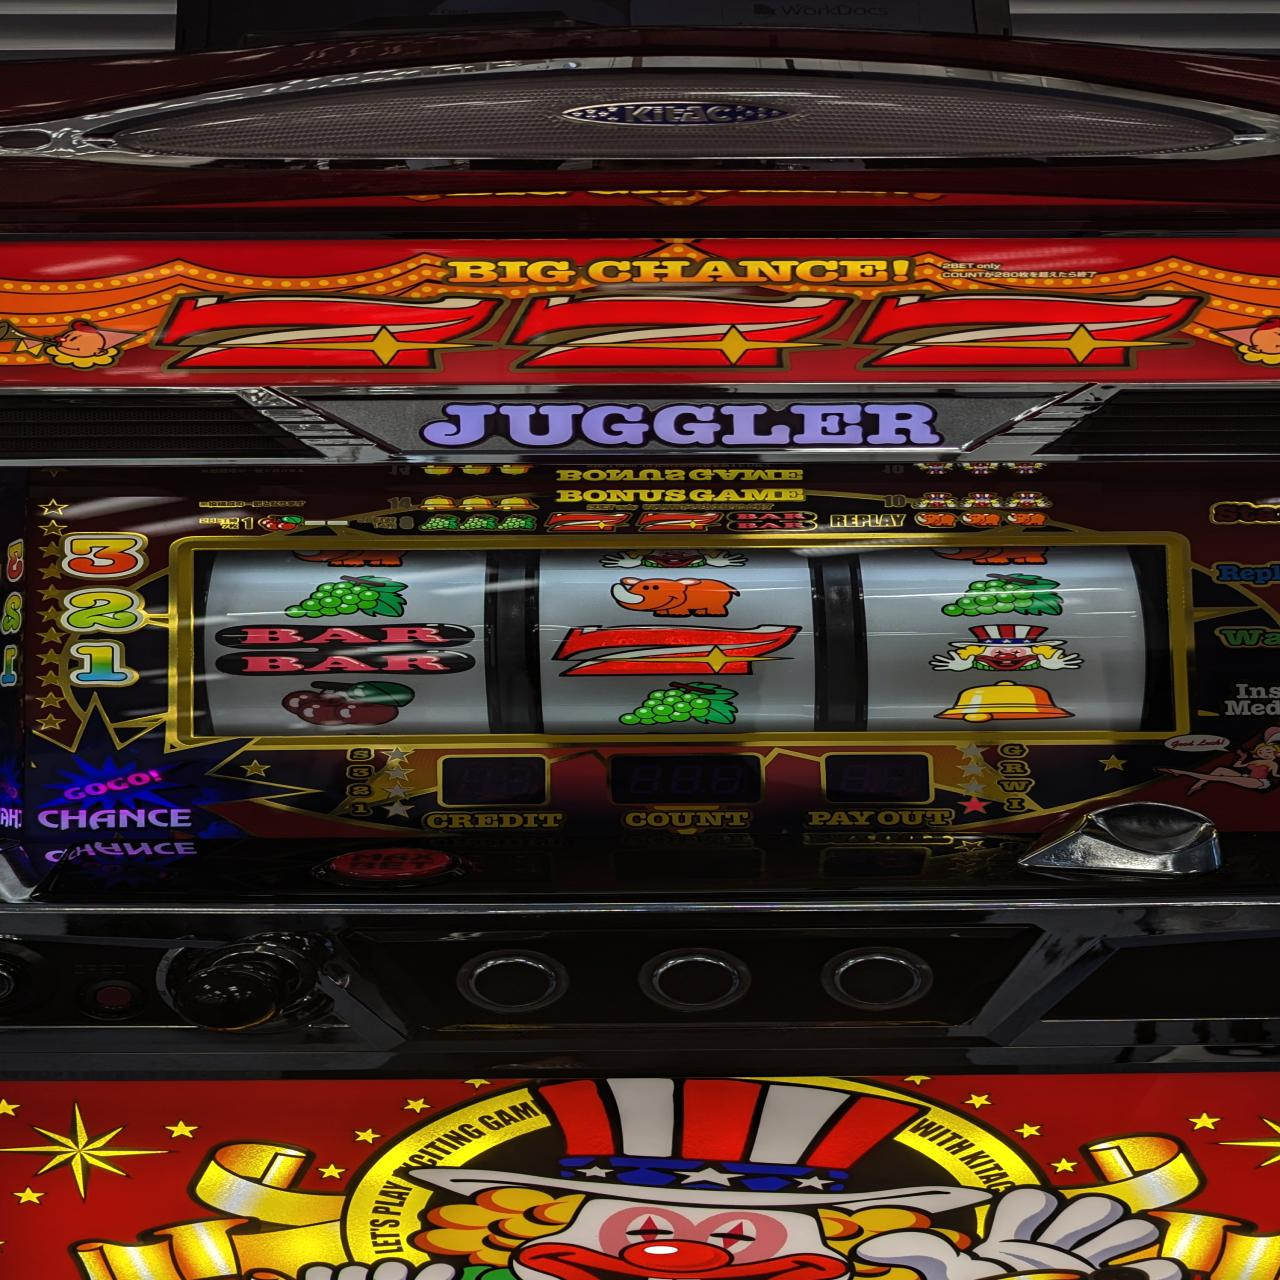7: (550, 622, 805, 679)
8: (606, 573, 745, 619)
Display: (188, 539, 1183, 734)
bar: (211, 620, 479, 675)
bell: (930, 678, 1083, 727)
cherry: (275, 679, 422, 729)
clown: (924, 622, 1089, 675)
grape: (613, 679, 743, 729), (277, 573, 414, 620), (939, 572, 1069, 620)
